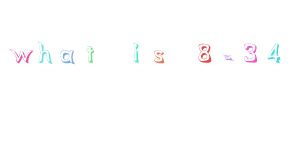-: (218, 49, 239, 66)
3: (242, 37, 260, 68)
4: (264, 38, 285, 68)
8: (194, 39, 216, 70)
a: (58, 44, 77, 68)
h: (33, 37, 56, 69)
i: (129, 39, 144, 69)
s: (148, 42, 171, 69)
t: (82, 42, 101, 71)
w: (8, 41, 34, 70)
